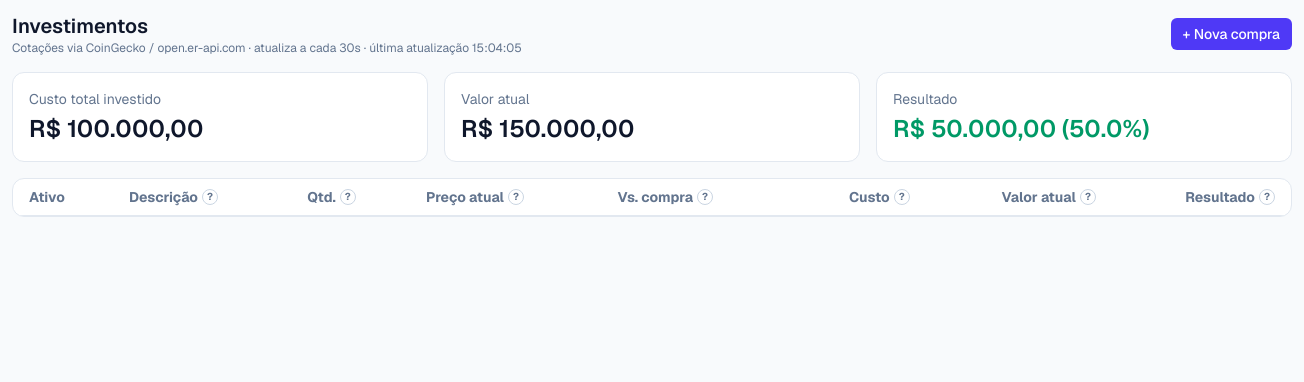
it: página /investimentos — dicas de ajuda › cada campo do formulário tem uma dica
The width and height of the screenshot is (1304, 382).
Check: the text "Custo total investido" is shown, box [29,90,161,108]
Click the button "+ Nova compra": (1231, 34) [1170,18,1292,50]
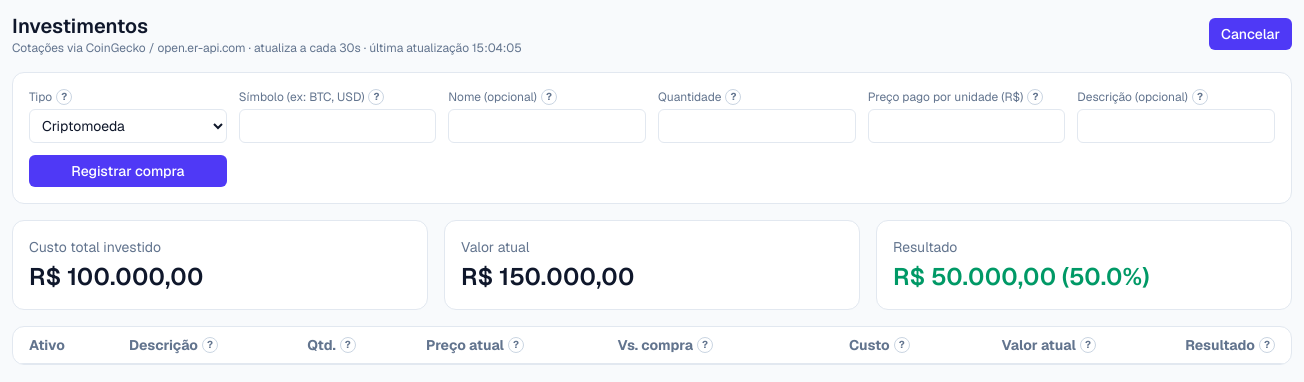
Check: the button named "ajuda sobre Quantidade" is shown, box [725,89,741,105]
Check: the button named "ajuda sobre Preço pago por unidade" is shown, box [1027,89,1043,105]
